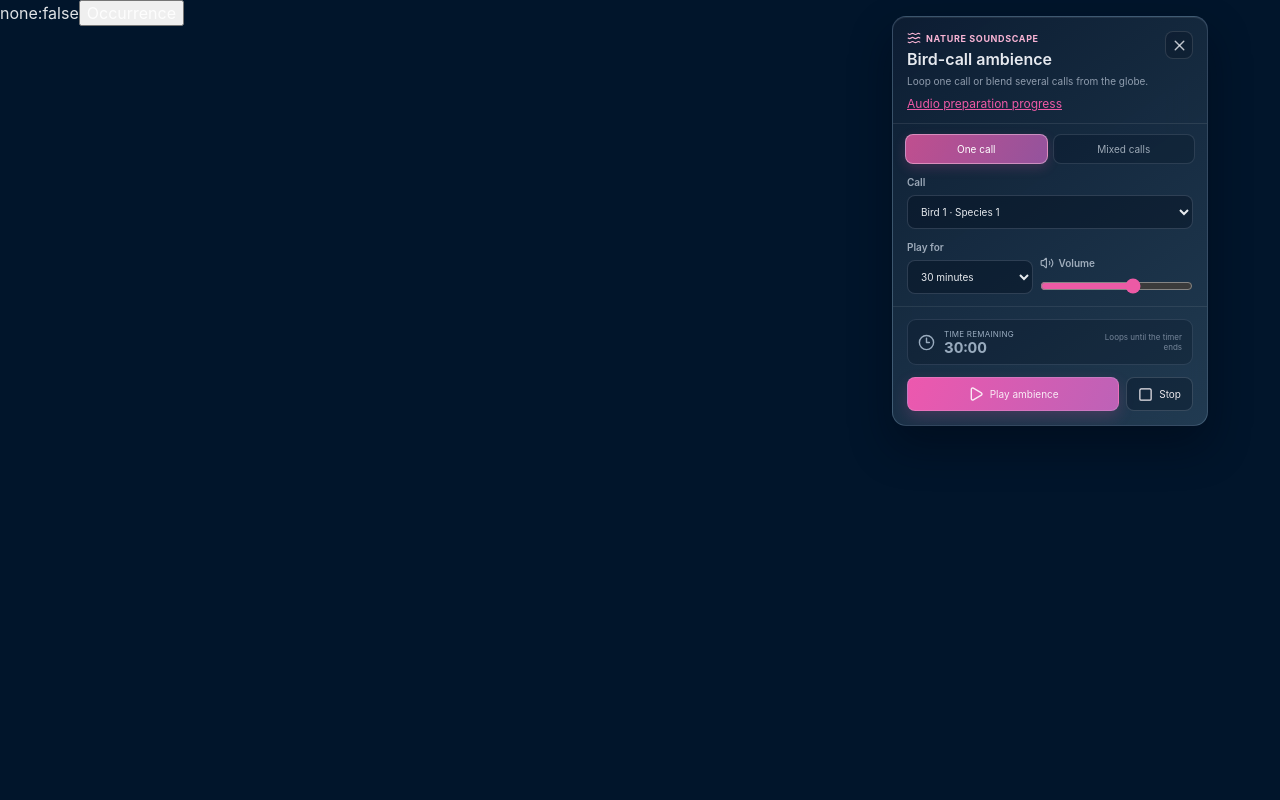
ambient playback › shows failure and does not report playing when every source rejects
The image size is (1280, 800).
What coordinates should you click on to do the following:
click the button "Play ambience"
I would click on:
 (1013, 394)
Its box is top-left (907, 377), bottom-right (1119, 411).
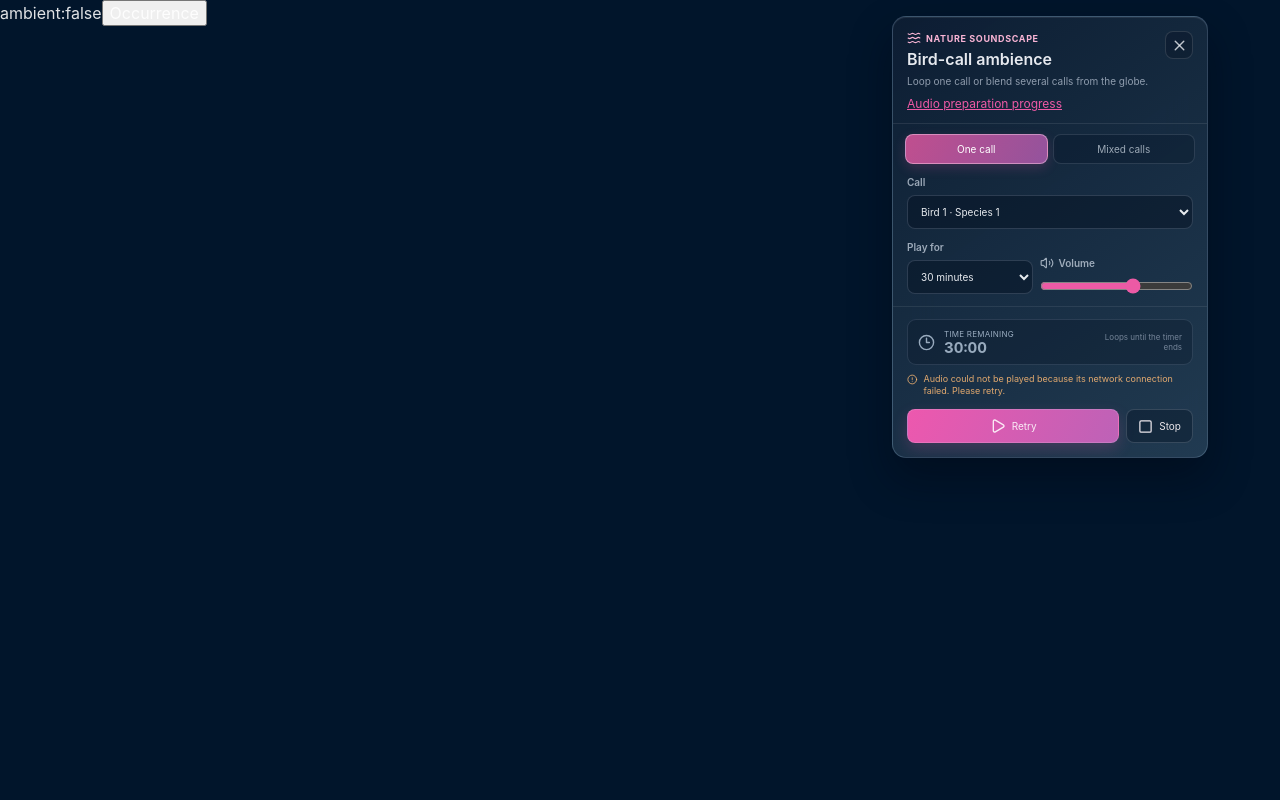
Expected: the text "Audio could not be played because its network connection failed. Please retry." is shown, top-left (907, 373), bottom-right (1193, 397)
Expected: the text with test id "audio-state" reads "ambient:false", top-left (0, 3), bottom-right (102, 23)
